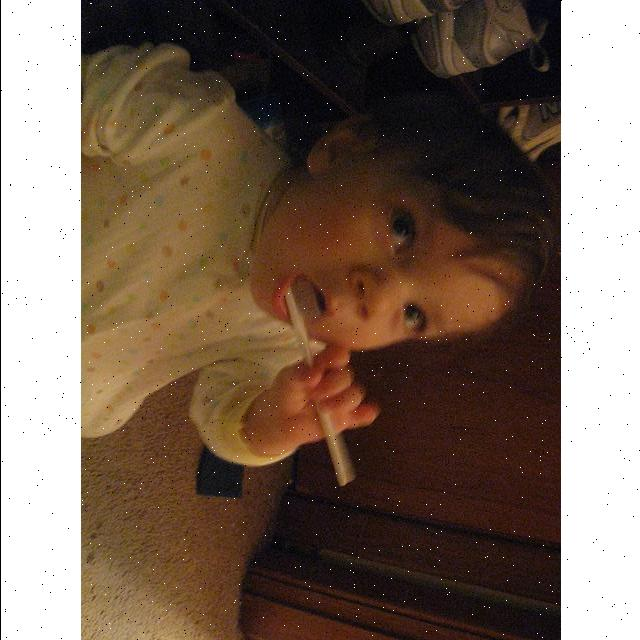toothbrush: (284, 278, 350, 486)
